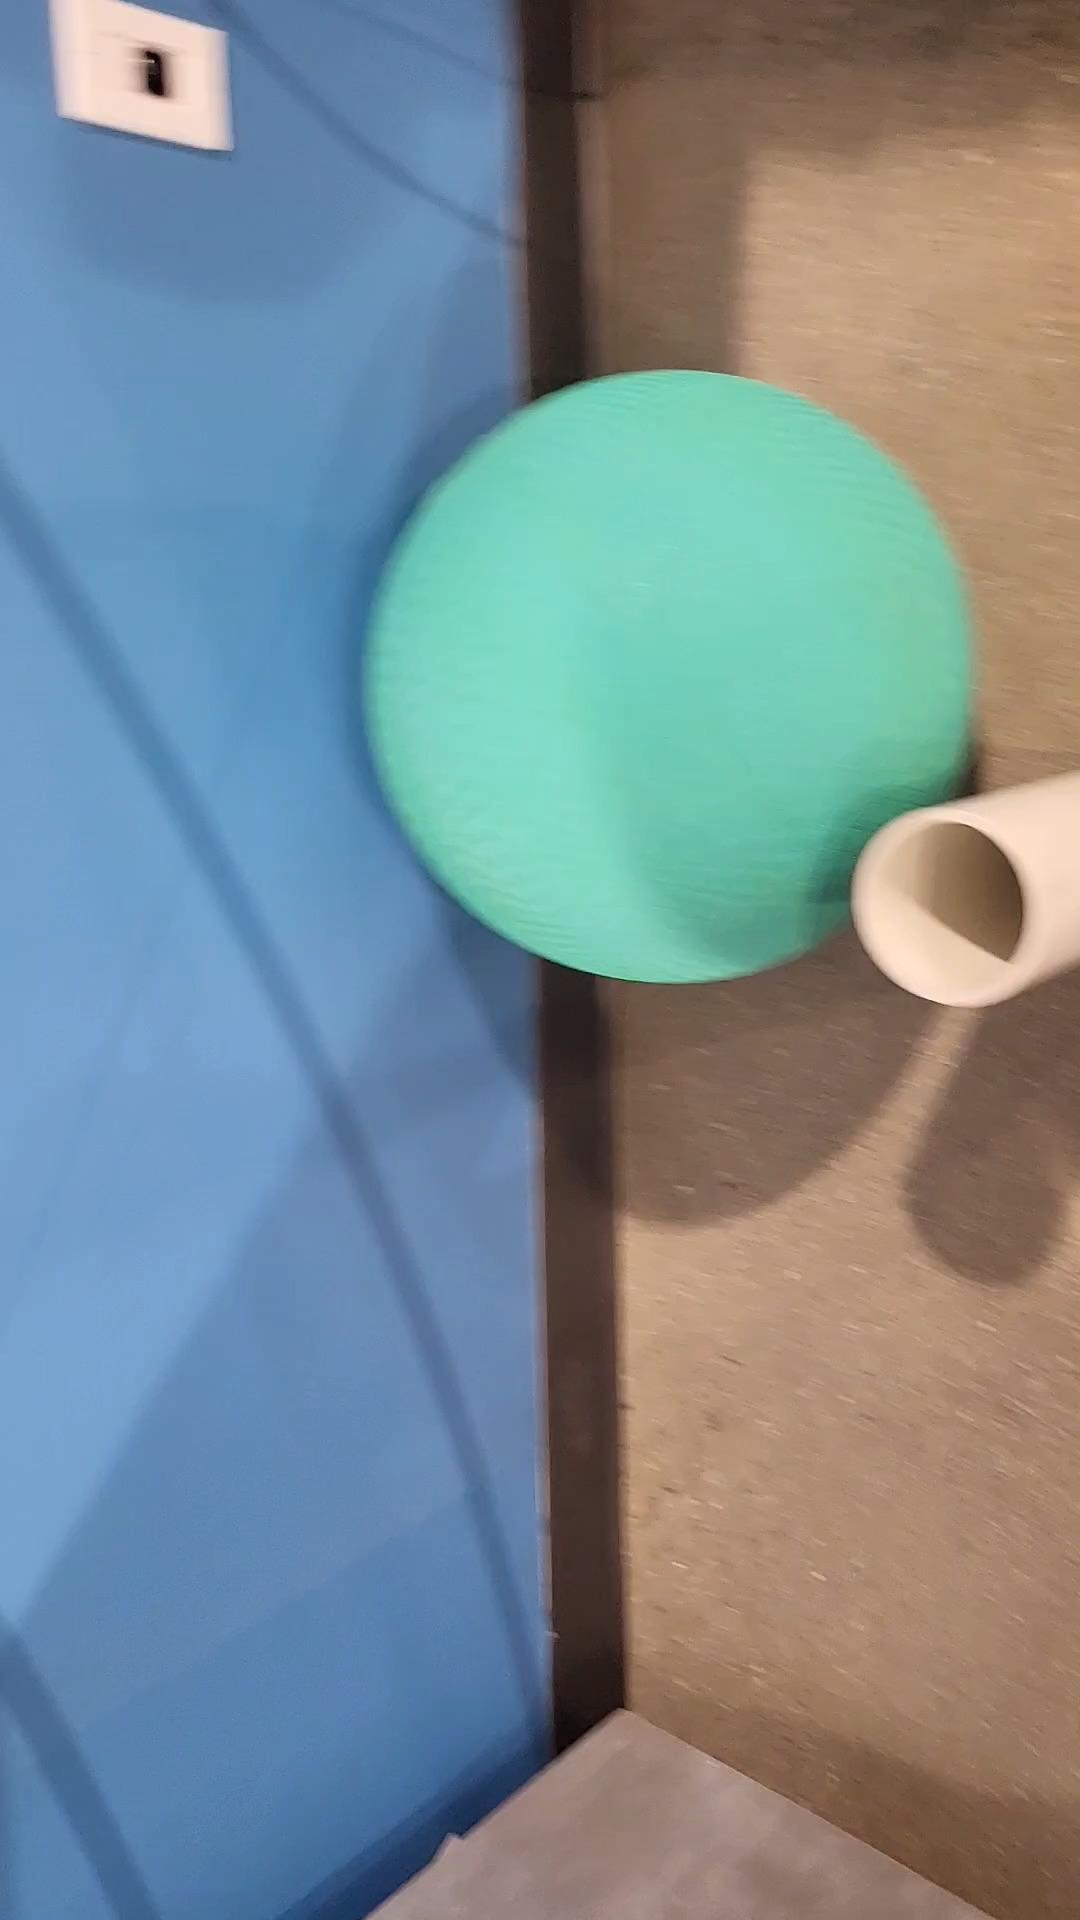algae: (365, 375, 975, 985)
coral: (852, 773, 1080, 1005)
